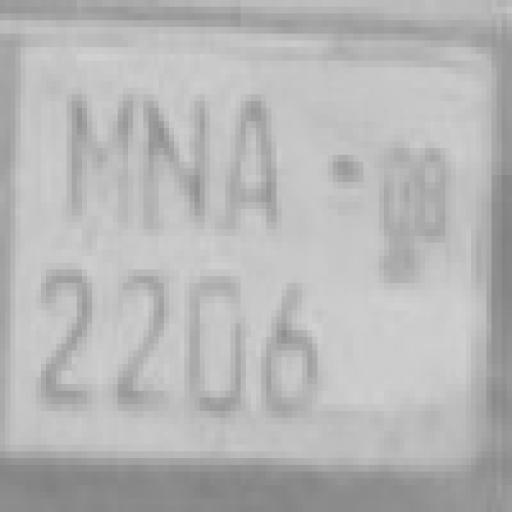0: (186, 254, 257, 418)
2: (31, 267, 101, 421), (115, 263, 177, 416)
6: (264, 274, 332, 428)
A: (212, 81, 285, 240)
M: (61, 100, 138, 231)
N: (142, 99, 210, 226)
